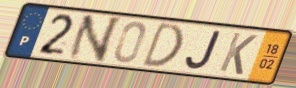0: (112, 20, 147, 65)
2: (38, 13, 75, 58)
D: (139, 21, 185, 69)
J: (183, 30, 224, 72)
K: (217, 30, 260, 77)
N: (64, 14, 125, 64)
